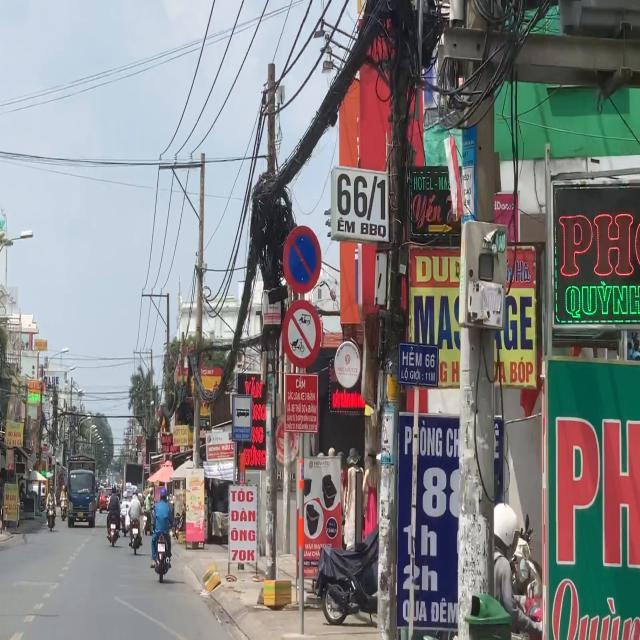Ben xe buyt: (232, 392, 252, 443)
Cam con lai: (282, 300, 322, 368)
Cam do: (283, 224, 322, 294)
